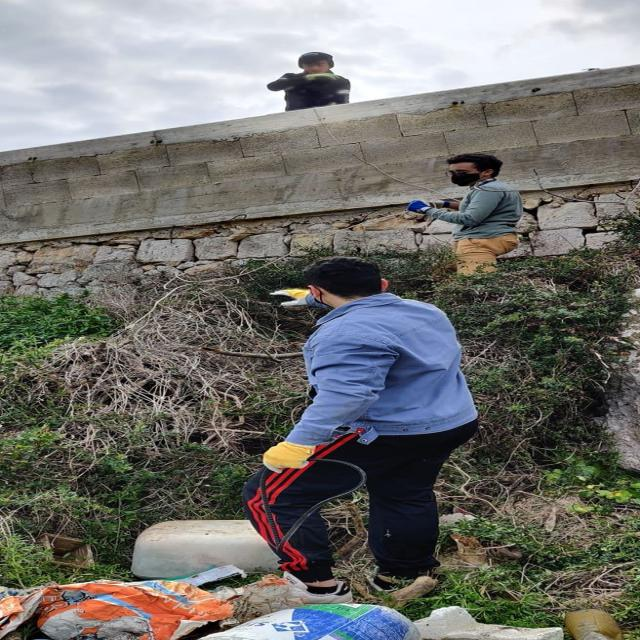Bottle: (562, 609, 627, 640)
Carton: (0, 566, 249, 640)
Other litter: (31, 532, 98, 570)
Other plastic: (189, 602, 427, 640), (132, 518, 277, 578), (410, 606, 562, 640), (217, 575, 313, 621)
